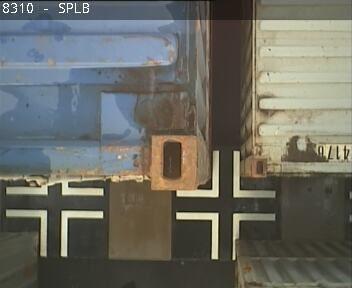groundmarker_1: (4, 207, 104, 256), (175, 211, 275, 259), (176, 151, 277, 196)
